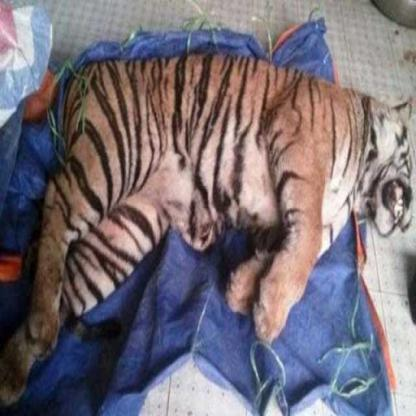Tiger: (32, 42, 415, 373)
